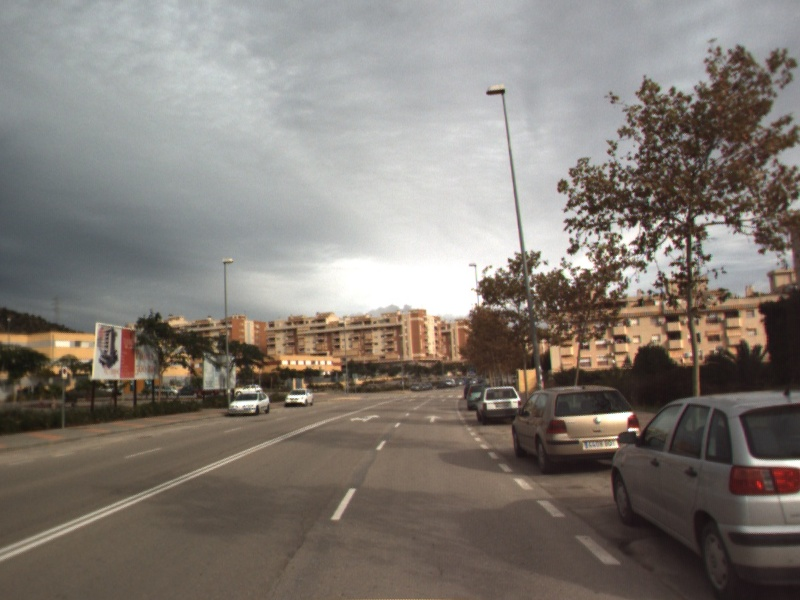STRAIGHT: (422, 412, 445, 425)
STRAIGHT_LEFT: (347, 412, 382, 424)
